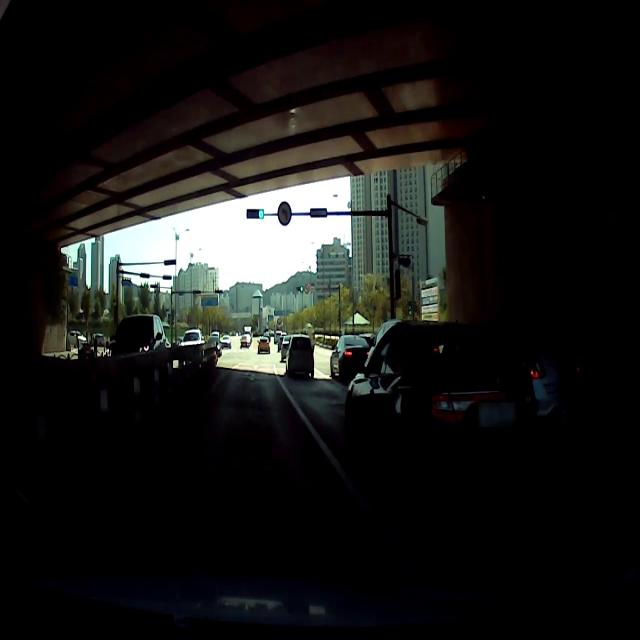Green Light: (258, 209, 264, 219), (300, 286, 303, 292)
